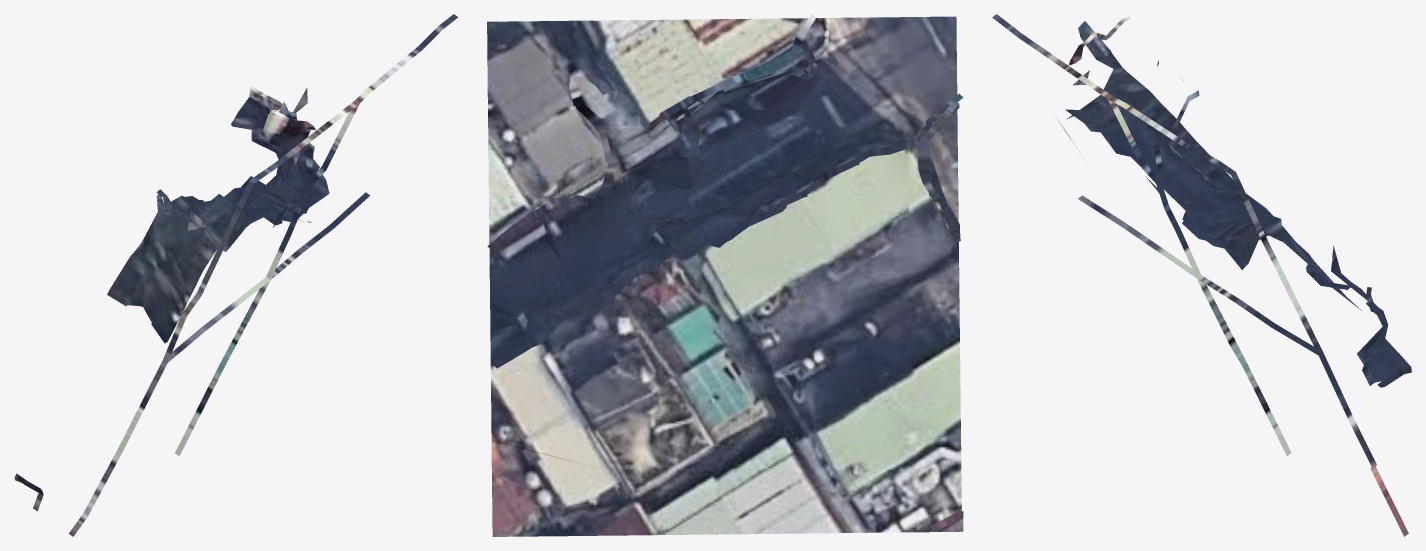
The picture shows the model from 3 angles, left to right: view 1: azimuth 30°, elevation 25°; view 2: azimuth 150°, elevation 25°; view 3: azimuth 270°, elevation 25°; orthographic projection. The views are drawn at different scales.
Bounding box in the file's own units: 40.59 × 37.63 × 32.46.
Materials: 1 (1 with a texture image).
